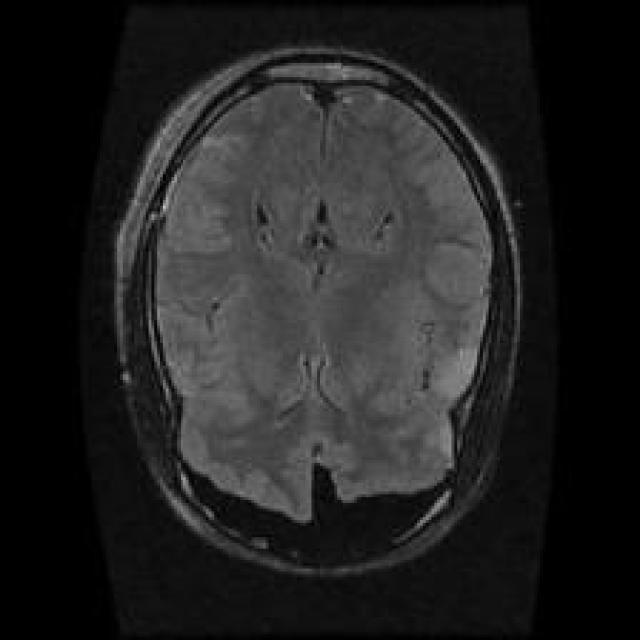no_tumor: (106, 36, 528, 589)
